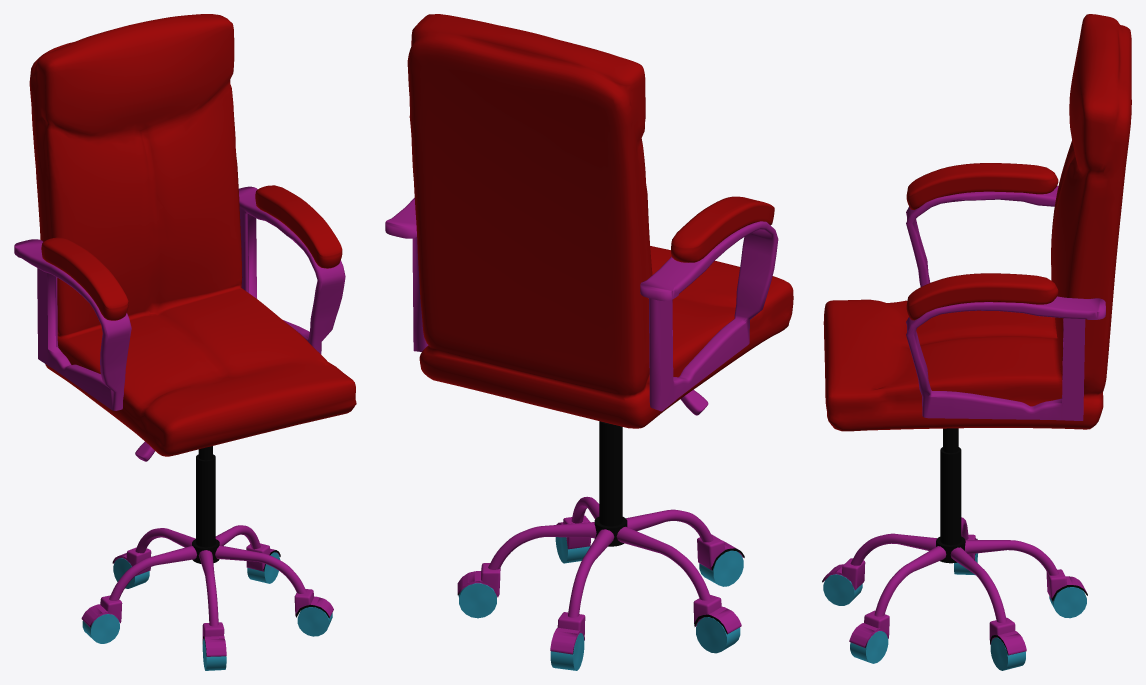
File: DeskChair.fbx
3 renders of one model, left to right at view 1: azimuth 30°, elevation 25°; view 2: azimuth 150°, elevation 25°; view 3: azimuth 270°, elevation 25°, orthographic. The views are drawn at different scales.
Visible parts, largest first — view 1: Object; view 2: Object; view 3: Object.
Part boxes in pixels (x1,y1,x2,y2): Object: (14, 14, 356, 670); Object: (385, 14, 793, 670); Object: (822, 14, 1131, 670).
Bounding box in the file's own units: 38.35 × 81.89 × 40.17.
